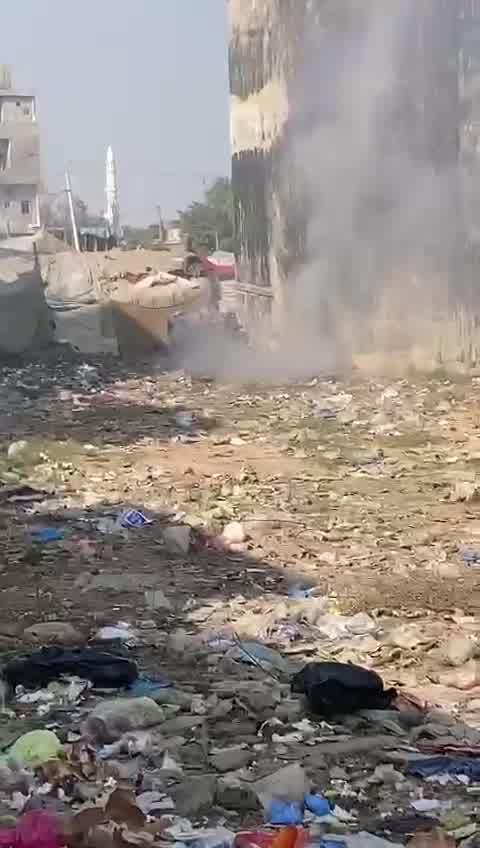garbage: (0, 364, 480, 848)
